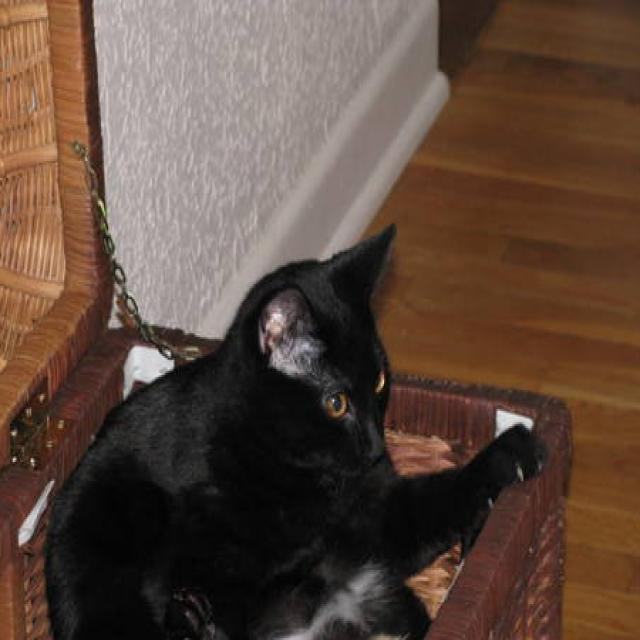Bombay: (38, 218, 550, 640)
